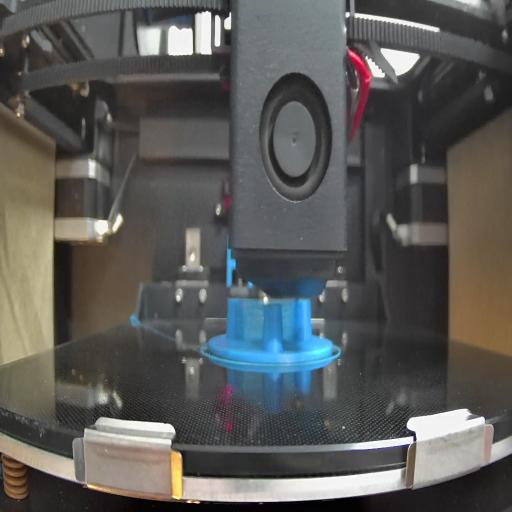stringing: (236, 301, 264, 344), (283, 299, 297, 346)
